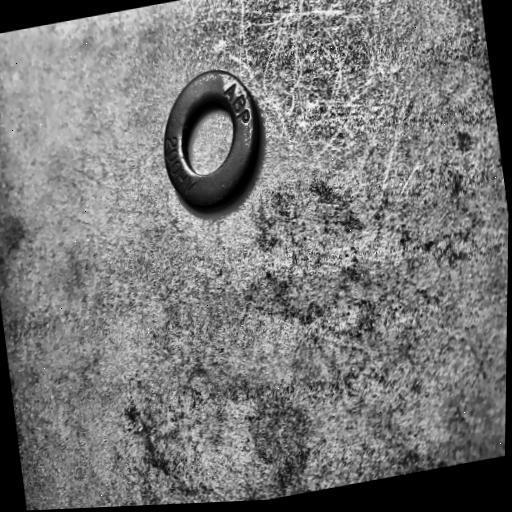Washer: (162, 68, 260, 212)
